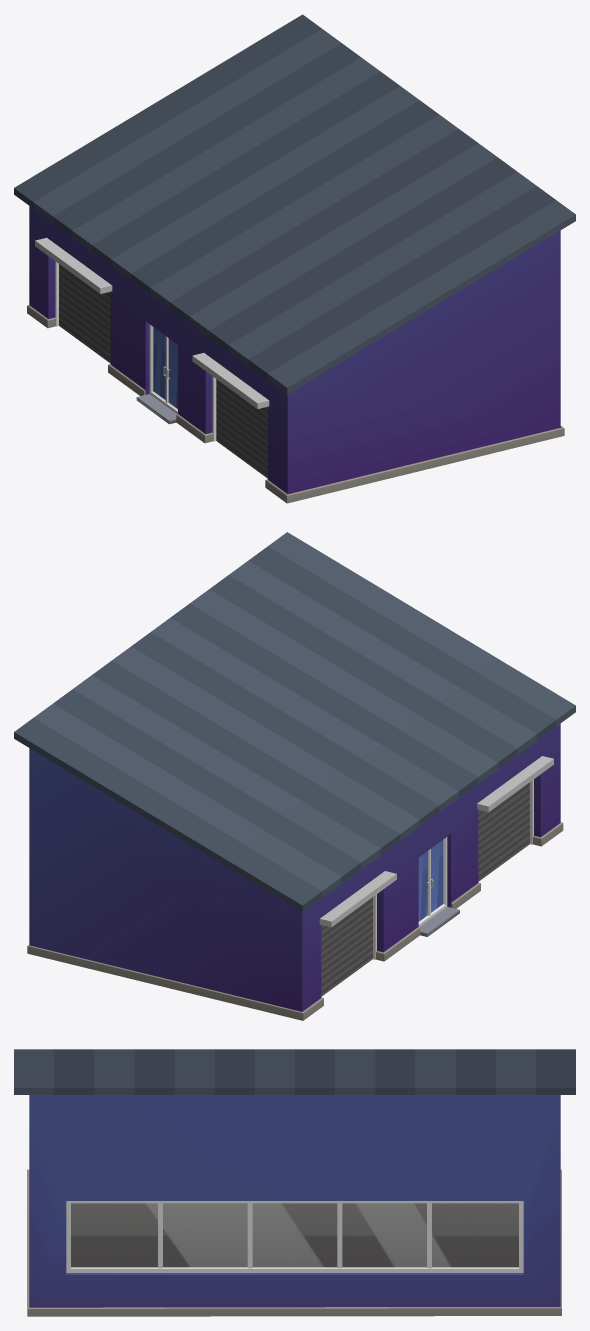
Rendered from Building_Factory_2_C.fbx.
3 views of the same model, one above another, from view 1: azimuth 30°, elevation 25°; view 2: azimuth 150°, elevation 25°; view 3: azimuth 270°, elevation 25° (orthographic). The views are drawn at different scales.
Parts seen in each view (by area): view 1: Building_Factory_2_C; view 2: Building_Factory_2_C; view 3: Building_Factory_2_C.
Part boxes in pixels (x1,y1,x2,y2): Building_Factory_2_C: (14, 14, 575, 503); Building_Factory_2_C: (14, 532, 575, 1020); Building_Factory_2_C: (14, 1049, 575, 1316).
Bounding box in the file's own units: 910 × 669 × 1473.
